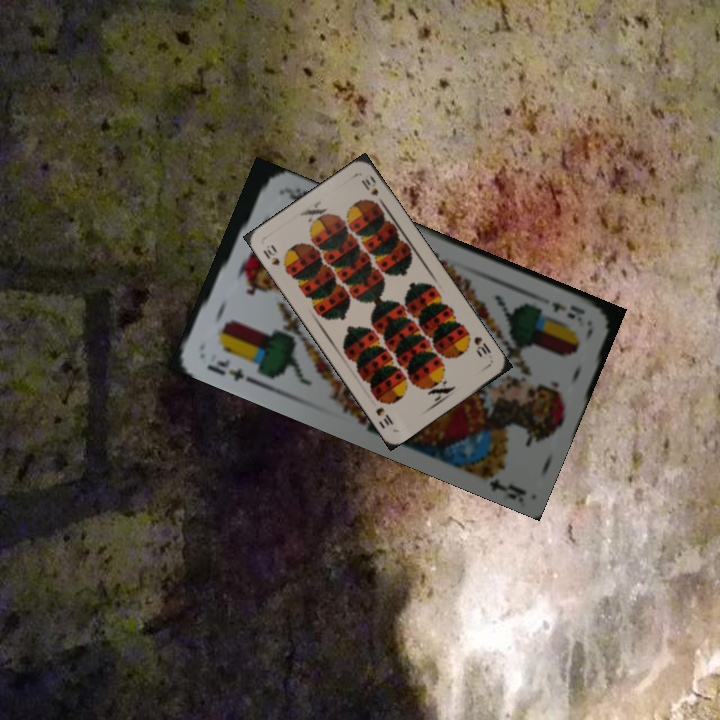EK: (203, 355, 256, 386), (547, 298, 587, 322)
S10: (259, 240, 290, 274), (470, 332, 494, 359)
